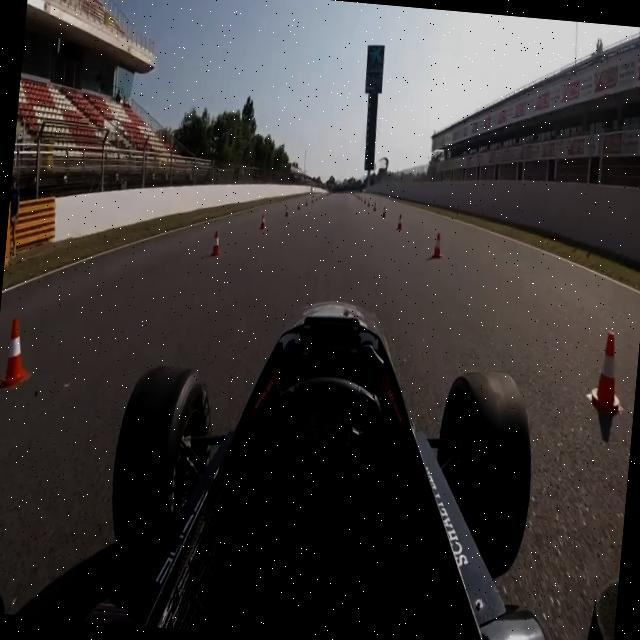orange_cone: (586, 326, 630, 418), (0, 313, 37, 393), (430, 230, 444, 260), (210, 227, 222, 257), (258, 211, 266, 230), (396, 212, 403, 230), (284, 204, 290, 217), (381, 204, 386, 218)
